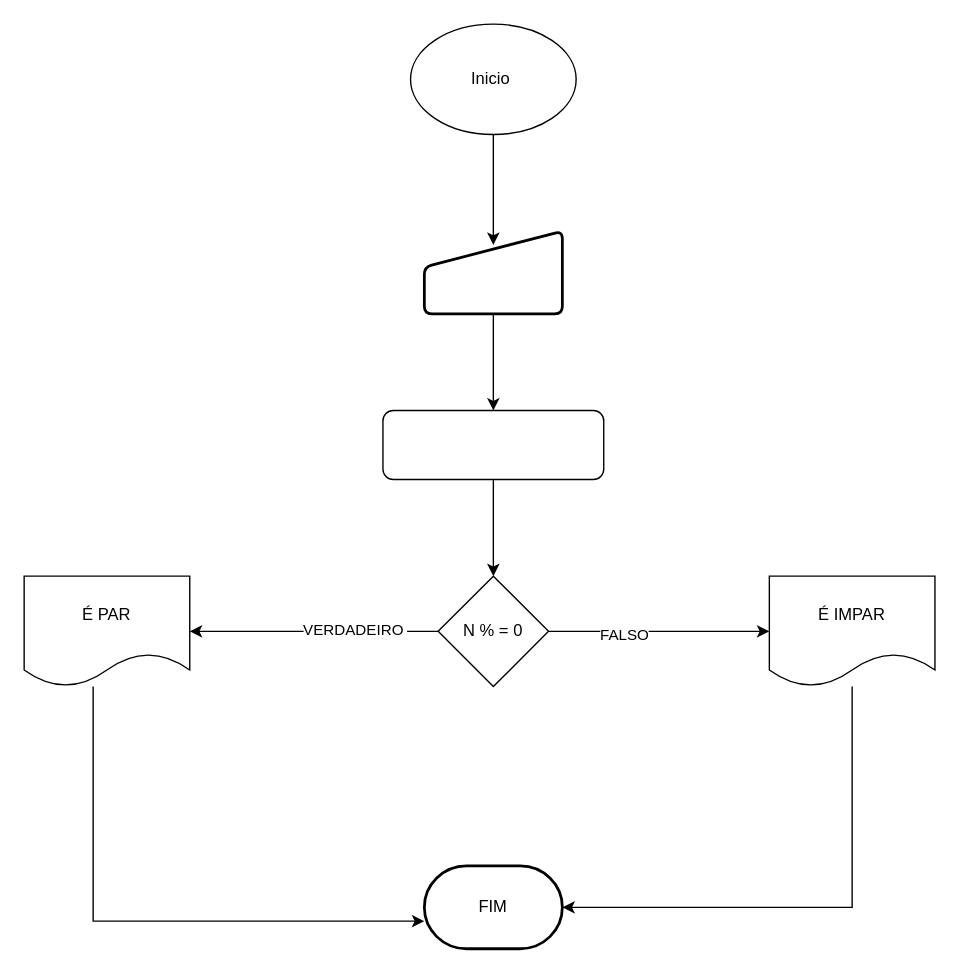
This 959x974 diagram has some shape labels left out. Here are the shapes that lost their labels. From the top down, the centre of each, then its label:
At point 492,272: "N1".
At point 493,444: "N / 2".
